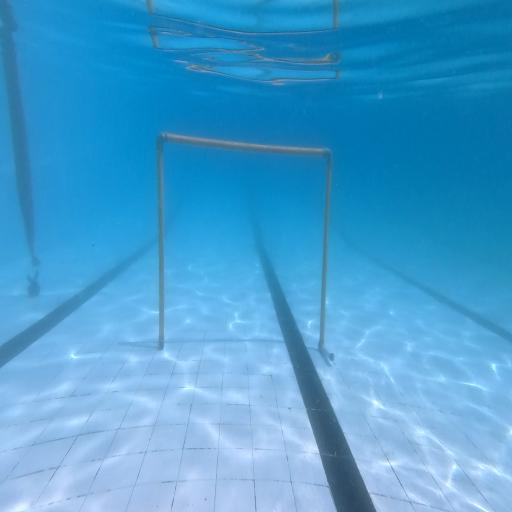gate: (158, 133, 334, 362)
